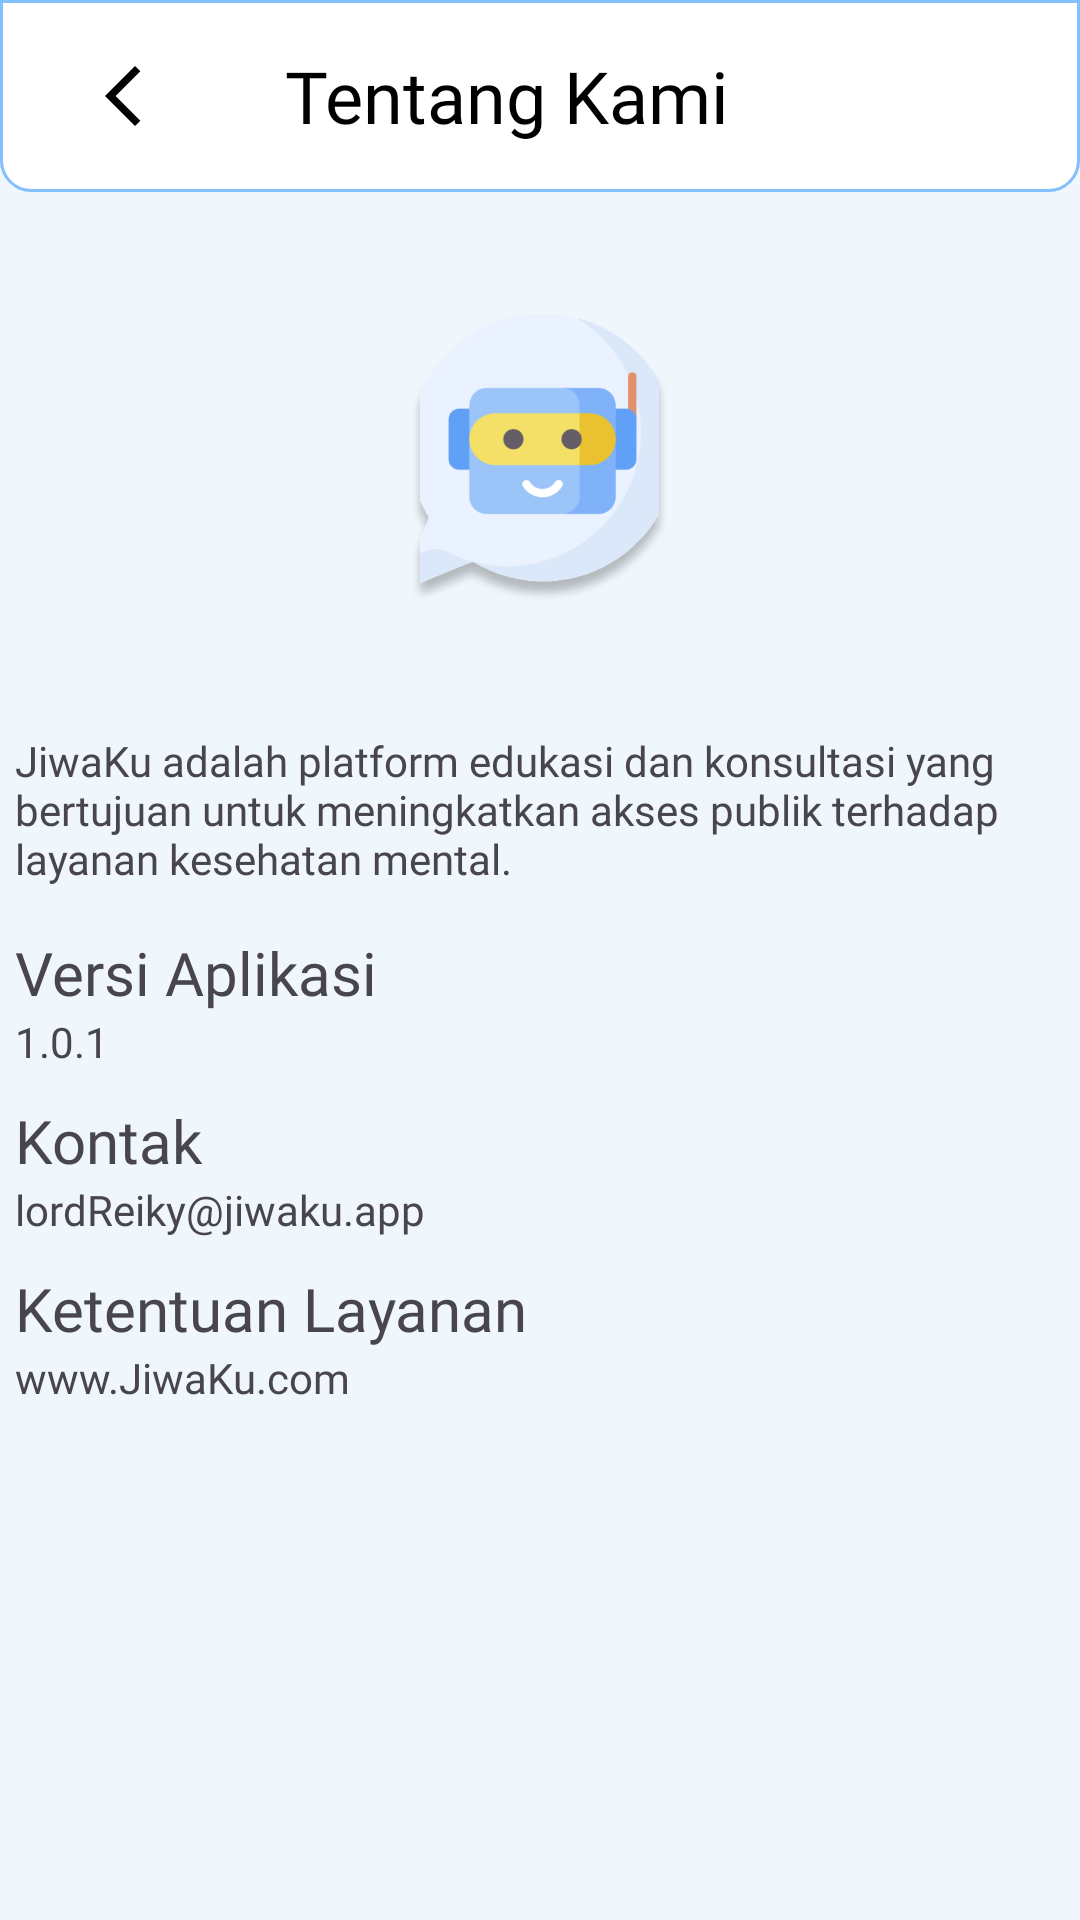

Icon bounding boxes for this 1080px x 1920px phone screenshot, format (x1, y1, x2, y2):
arrow: (105, 66, 140, 126)
